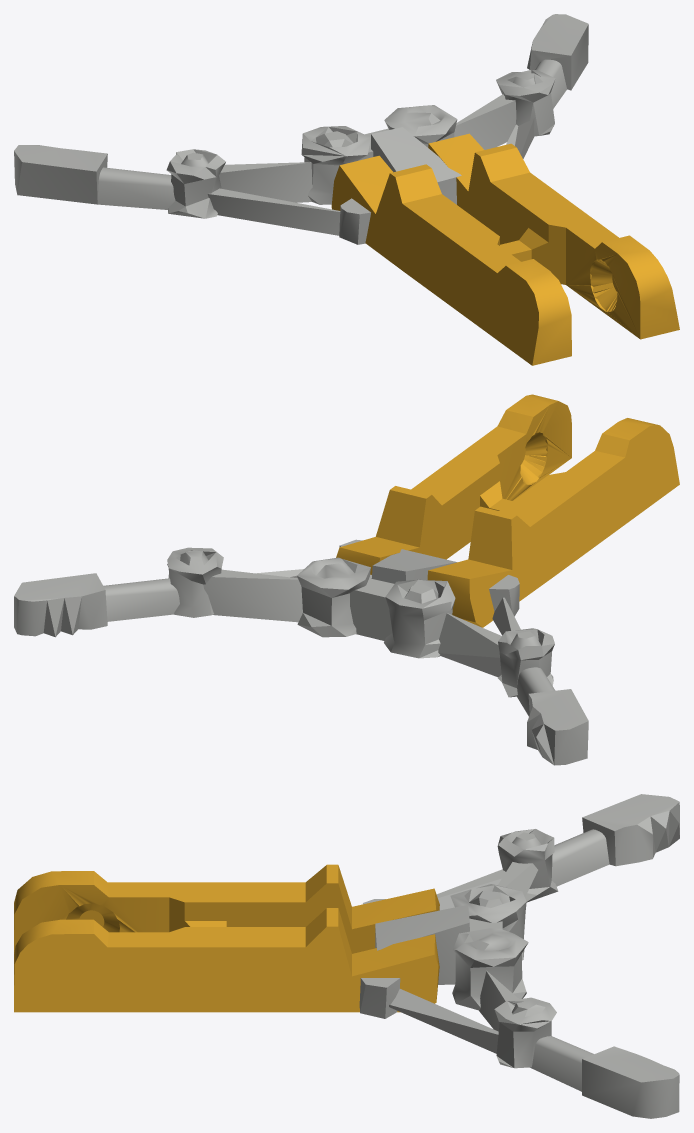
The model's file is inserter-arm-stack-hand-open.glb.
3 views of the same model, one above another, from view 1: azimuth 30°, elevation 25°; view 2: azimuth 150°, elevation 25°; view 3: azimuth 270°, elevation 25° (orthographic). The views are drawn at different scales.
Visible parts, largest first — view 1: body; view 2: body; view 3: body.
Boxes of the visible parts, x1=… form: body: x1=14, y1=14, x2=679, y2=365; body: x1=14, y1=394, x2=679, y2=765; body: x1=14, y1=794, x2=679, y2=1118.
Size of the model in its own units: 1.02 by 0.1294 by 0.9896.
